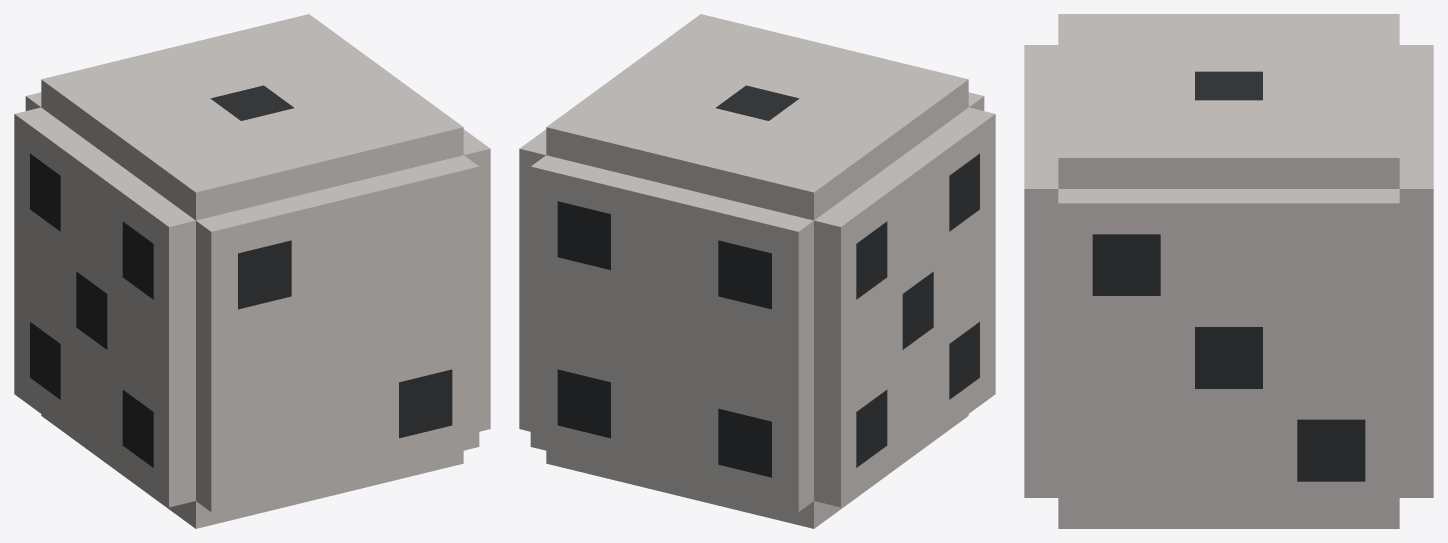
The model's file is dice-v1-white-black.gltf.
3 renders of one model, left to right at view 1: azimuth 30°, elevation 25°; view 2: azimuth 150°, elevation 25°; view 3: azimuth 270°, elevation 25°, orthographic. The views are drawn at different scales.
Visible parts, largest first — view 1: Untitled; view 2: Untitled; view 3: Untitled.
Boxes of the visible parts, x1,y1,x2,y2 form: Untitled: (14,14,490,528); Untitled: (519,14,995,528); Untitled: (1024,14,1433,528).
Size of the model in its own units: 1.2 by 1.2 by 1.2.
1 material, 1 textured.
